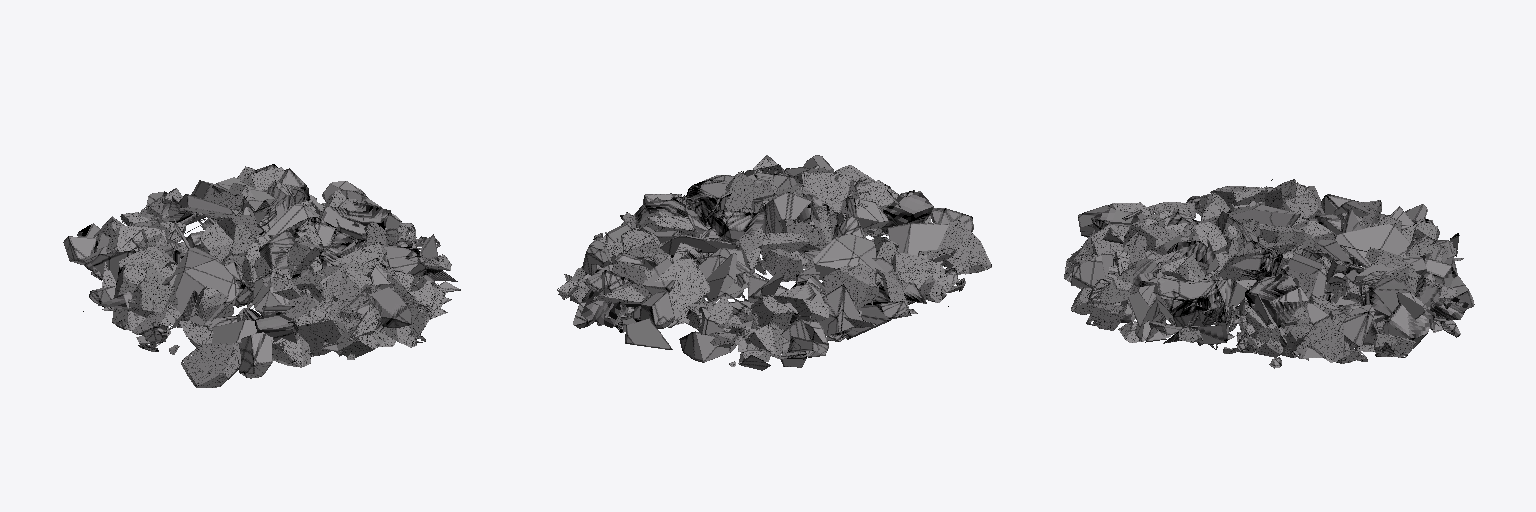
The picture shows the model from 3 angles: view 1: azimuth 30°, elevation 25°; view 2: azimuth 150°, elevation 25°; view 3: azimuth 270°, elevation 25°; orthographic projection.
Parts seen in each view (by area): view 1: Icosphere.003_cell.004_cell.002_Icosphere.003_cell.004_cell.001; view 2: Icosphere.003_cell.004_cell.002_Icosphere.003_cell.004_cell.001; view 3: Icosphere.003_cell.004_cell.002_Icosphere.003_cell.004_cell.001.
Part boxes in pixels (bbox=[...]): Icosphere.003_cell.004_cell.002_Icosphere.003_cell.004_cell.001: bbox=[63, 164, 460, 387]; Icosphere.003_cell.004_cell.002_Icosphere.003_cell.004_cell.001: bbox=[557, 155, 991, 370]; Icosphere.003_cell.004_cell.002_Icosphere.003_cell.004_cell.001: bbox=[1064, 179, 1474, 368].
Bounding box in the file's own units: 2.19 × 0.5231 × 2.32.
1 materials, 1 textured.